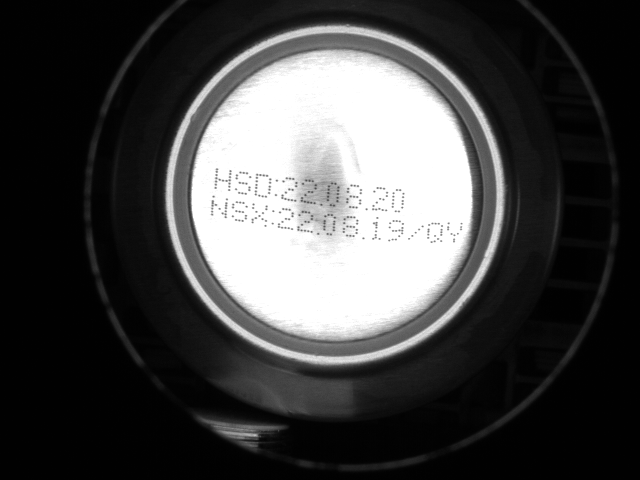/: (410, 222, 424, 243)
0: (321, 179, 344, 209), (390, 185, 413, 215), (319, 215, 342, 240)
1: (364, 217, 386, 240)
2: (278, 174, 302, 205), (299, 178, 321, 206), (371, 187, 390, 211), (296, 211, 314, 236), (278, 207, 293, 232)
8: (344, 181, 367, 211), (342, 215, 364, 238)
9: (390, 218, 409, 243)
D: (254, 173, 278, 199)
H: (214, 165, 236, 195)
N: (212, 198, 229, 220)
Q: (426, 223, 448, 245)
S: (233, 168, 251, 199), (231, 202, 248, 227)
X: (251, 205, 269, 231)
Y: (447, 219, 465, 246)
